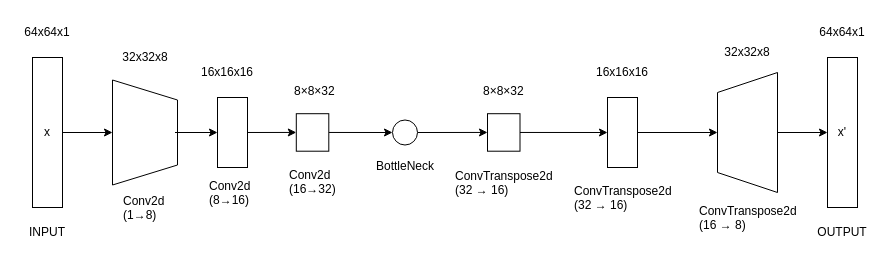
This 889x264 diagram has some shape labels left out. Each missing label, with the box of its shape:
Dekoder: (716, 72, 778, 192)
Enkoder: (112, 79, 178, 185)
